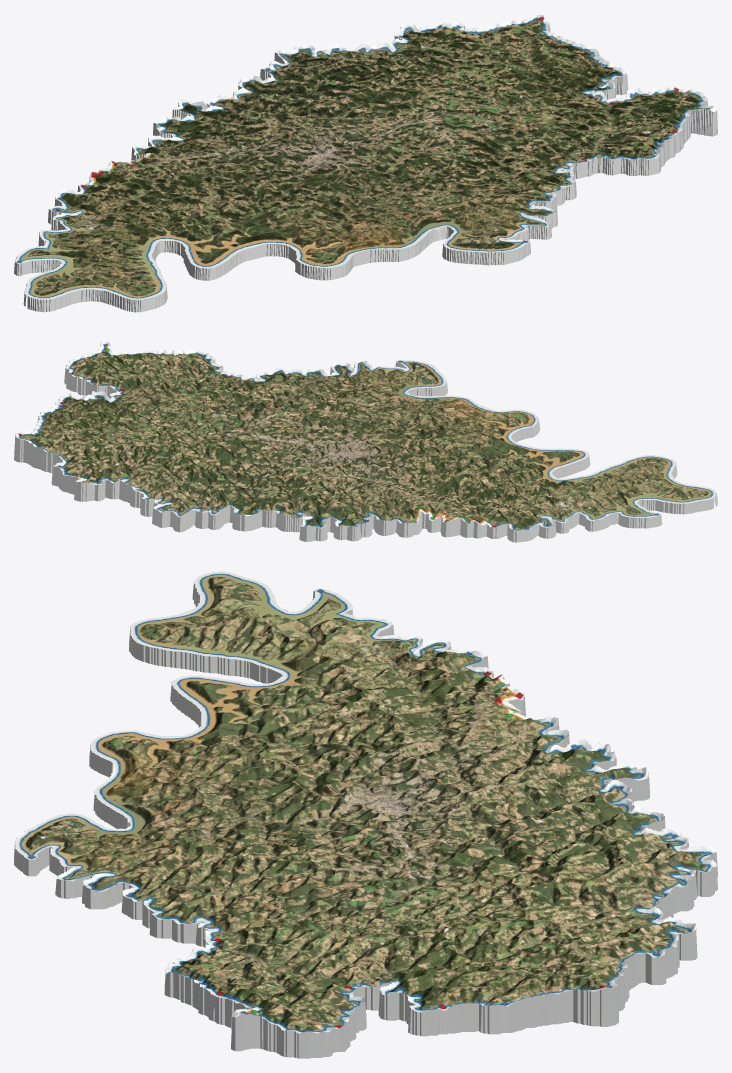
The picture shows the model from 3 angles, top to bottom: view 1: azimuth 30°, elevation 25°; view 2: azimuth 150°, elevation 25°; view 3: azimuth 270°, elevation 25°; orthographic projection. The views are drawn at different scales.
Bounding box in the file's own units: 1 × 0.0413 × 0.631.
Materials: 1 (1 with a texture image).
